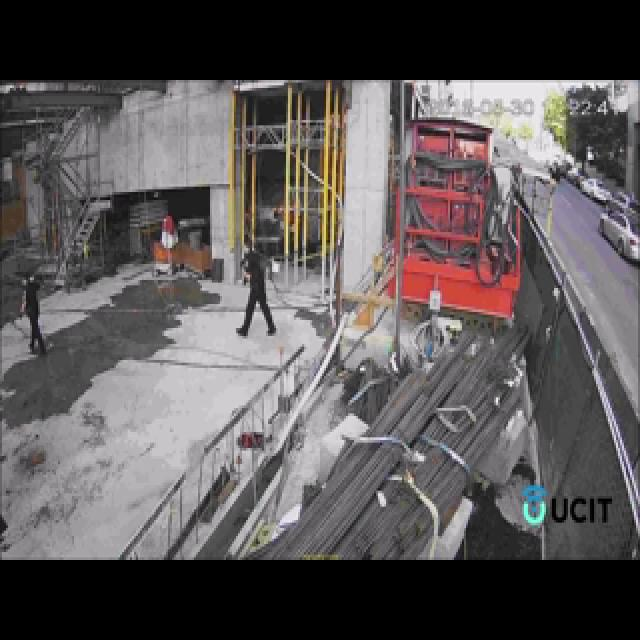arrest: (0, 180, 446, 442)
